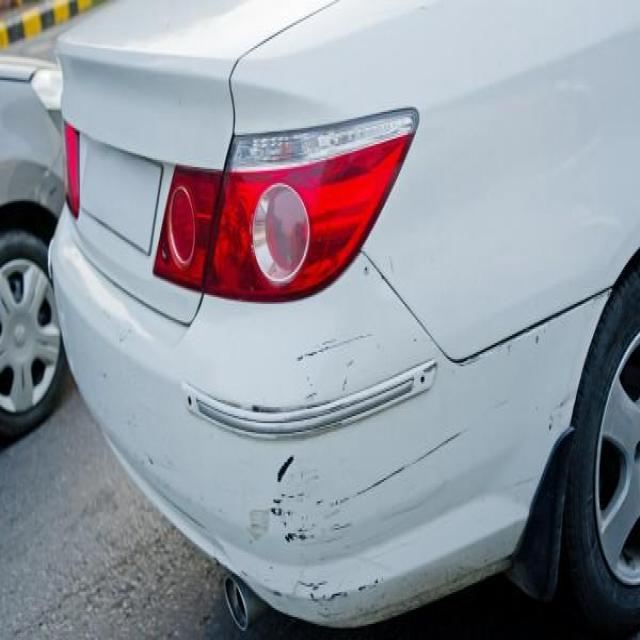scratch: (326, 414, 472, 516), (288, 316, 378, 376)
